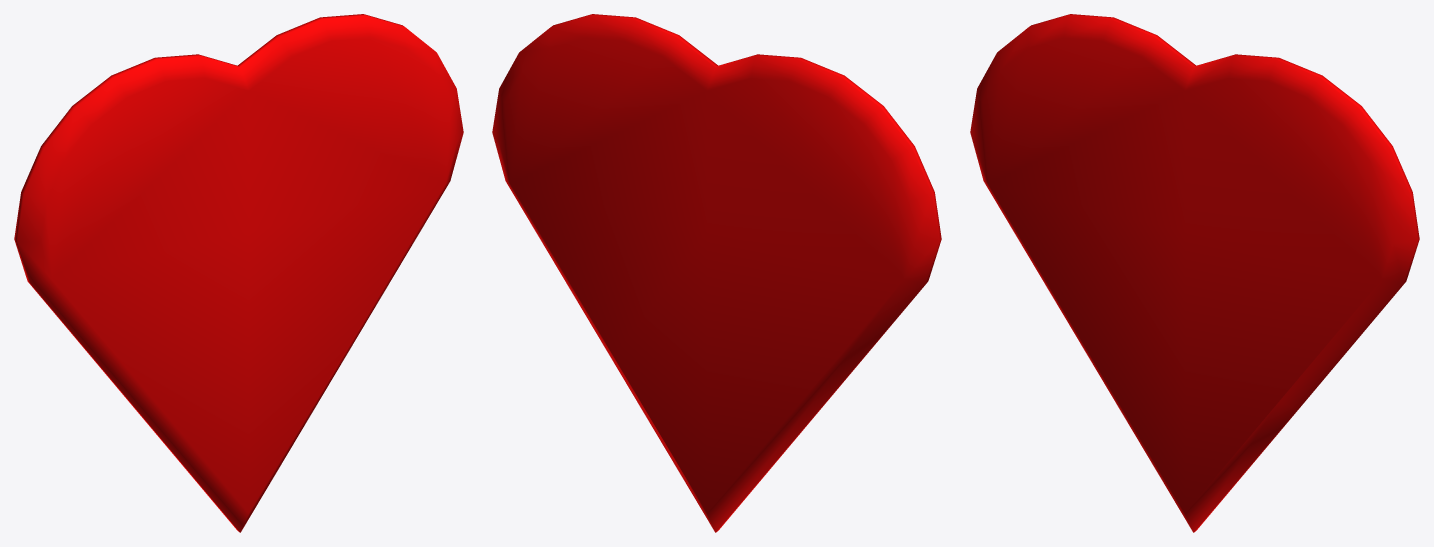
The model's file is HeartFX.fbx.
3 views of the same model, side by side, from view 1: azimuth 30°, elevation 25°; view 2: azimuth 150°, elevation 25°; view 3: azimuth 330°, elevation 25° (orthographic).
Parts seen in each view (by area): view 1: heartMesh; view 2: heartMesh; view 3: heartMesh.
Part boxes in pixels (bbox=[...]): heartMesh: bbox=[14, 14, 463, 532]; heartMesh: bbox=[492, 14, 941, 532]; heartMesh: bbox=[970, 14, 1419, 532].
Bounding box in the file's own units: 65.04 × 68.66 × 5.
Materials: 1 (1 with a texture image).
